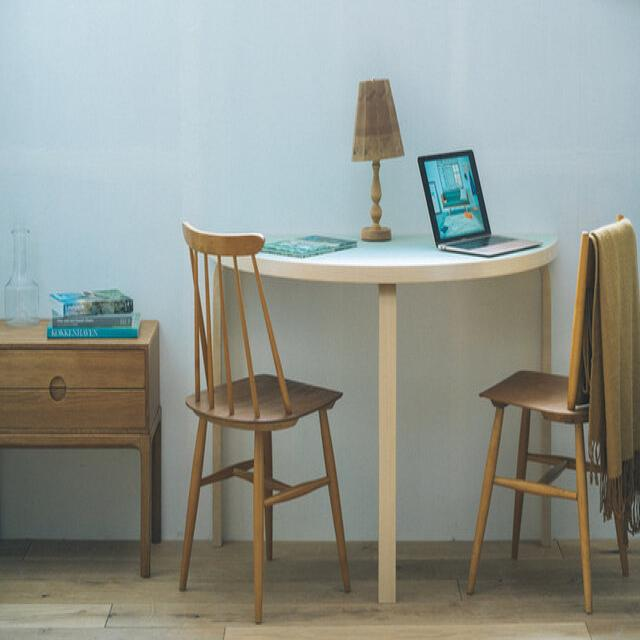chair vintage: (175, 216, 355, 622)
